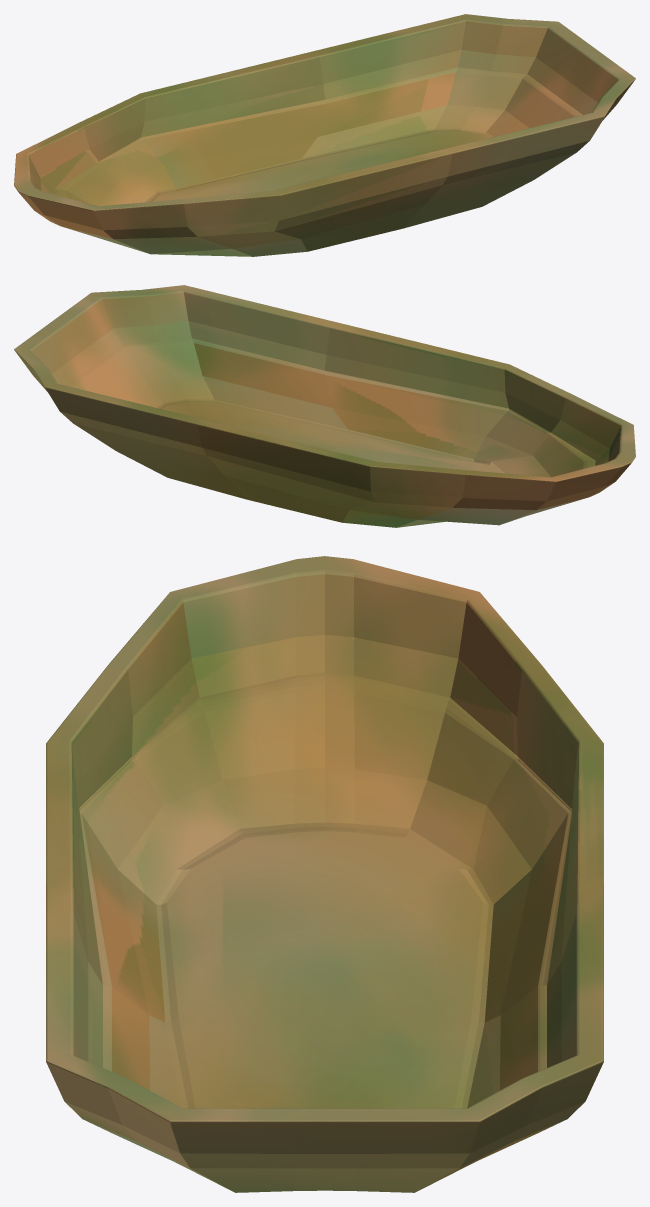
File: baatmamis gemi gemi .fbx
3 renders of one model, top to bottom at view 1: azimuth 30°, elevation 25°; view 2: azimuth 150°, elevation 25°; view 3: azimuth 270°, elevation 25°, orthographic. The views are drawn at different scales.
Parts seen in each view (by area): view 1: Cube.031; view 2: Cube.031; view 3: Cube.031.
Boxes of the visible parts, left/top/right/bottom form: Cube.031: left=14, top=14, right=635, bottom=256; Cube.031: left=14, top=285, right=635, bottom=527; Cube.031: left=46, top=556, right=603, bottom=1192.
Size of the model in its own units: 508 by 76.96 by 212.
1 material, 1 textured.
